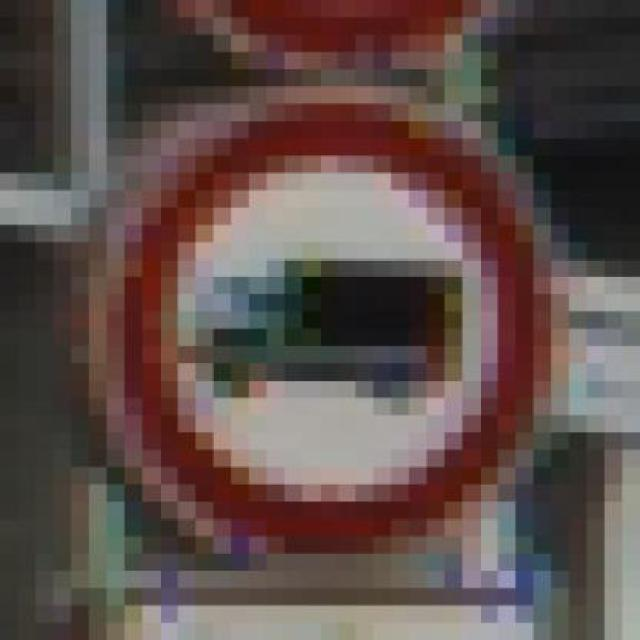Truck traffic is prohibited: (70, 80, 568, 582)
